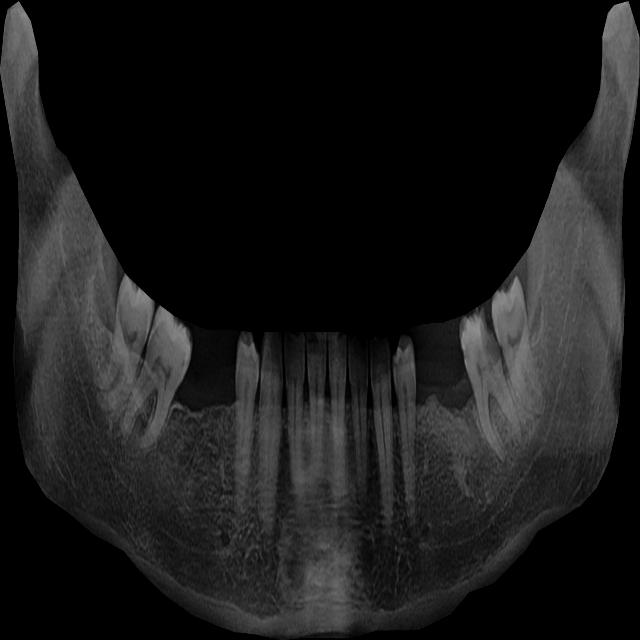mandibula: (0, 1, 640, 640)
